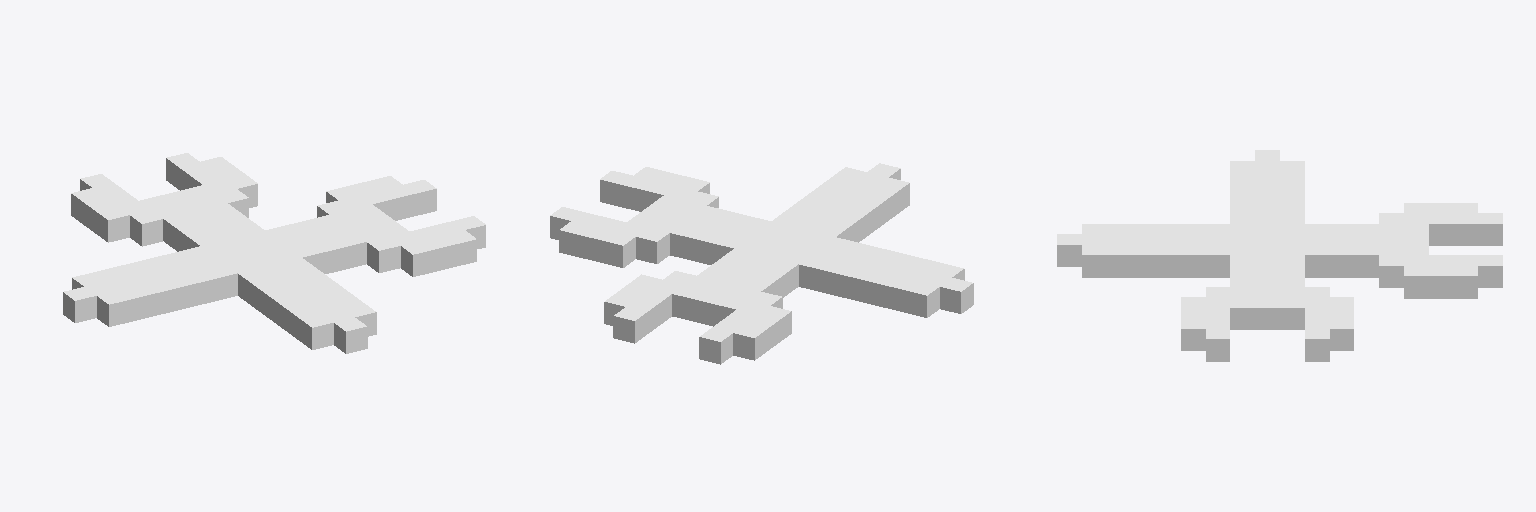
The model's file is repair.obj.
3 renders of one model, left to right at view 1: azimuth 30°, elevation 25°; view 2: azimuth 150°, elevation 25°; view 3: azimuth 270°, elevation 25°, orthographic.
Visible parts, largest first — view 1: object 1; view 2: object 1; view 3: object 1.
Boxes of the visible parts, x1,y1,x2,y2 form: object 1: [63, 153, 485, 353]; object 1: [550, 163, 973, 364]; object 1: [1057, 150, 1502, 361].
Size of the model in its own units: 1.8 by 0.1 by 1.8.